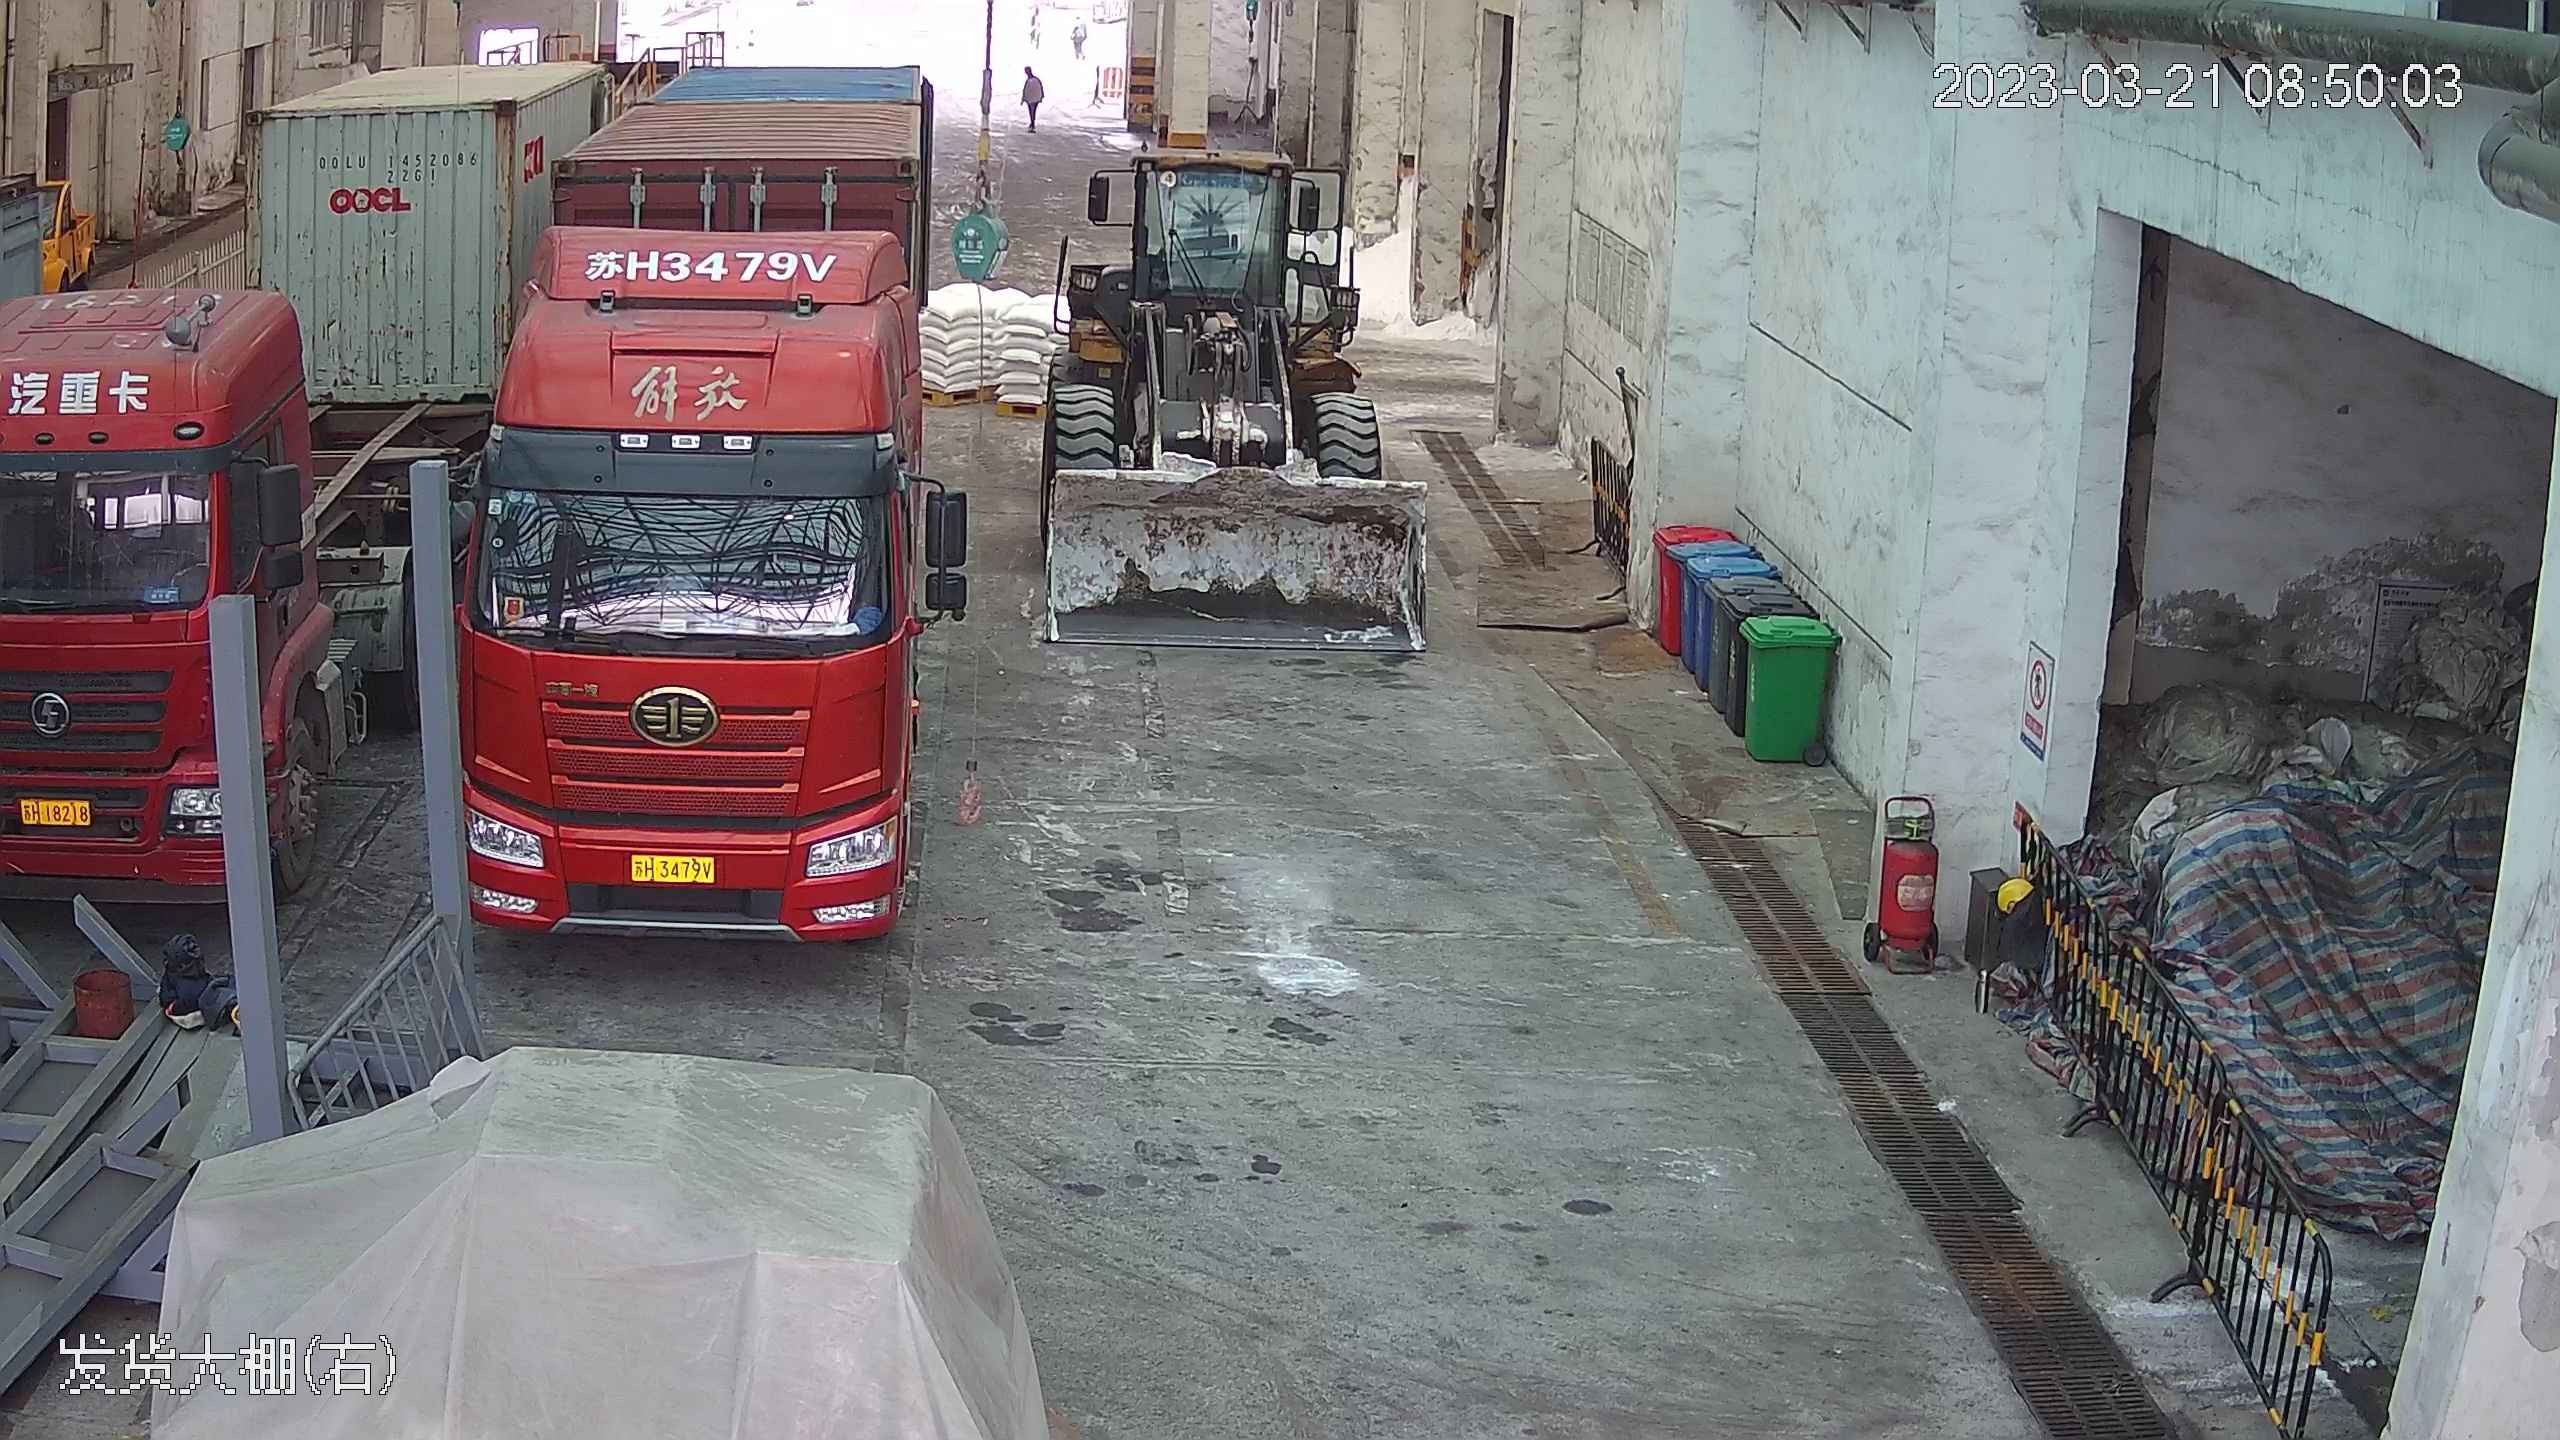people: (1019, 58, 1048, 132)
truck: (446, 44, 951, 949), (2, 147, 398, 881)
